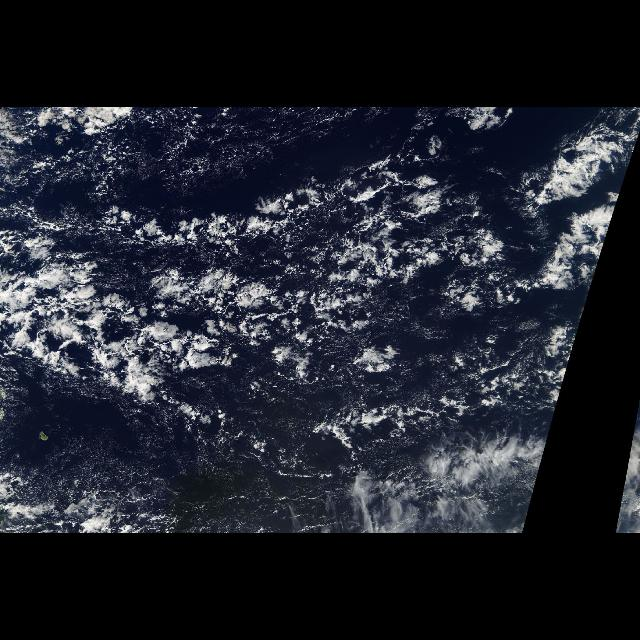Gravel: (4, 172, 568, 426)
